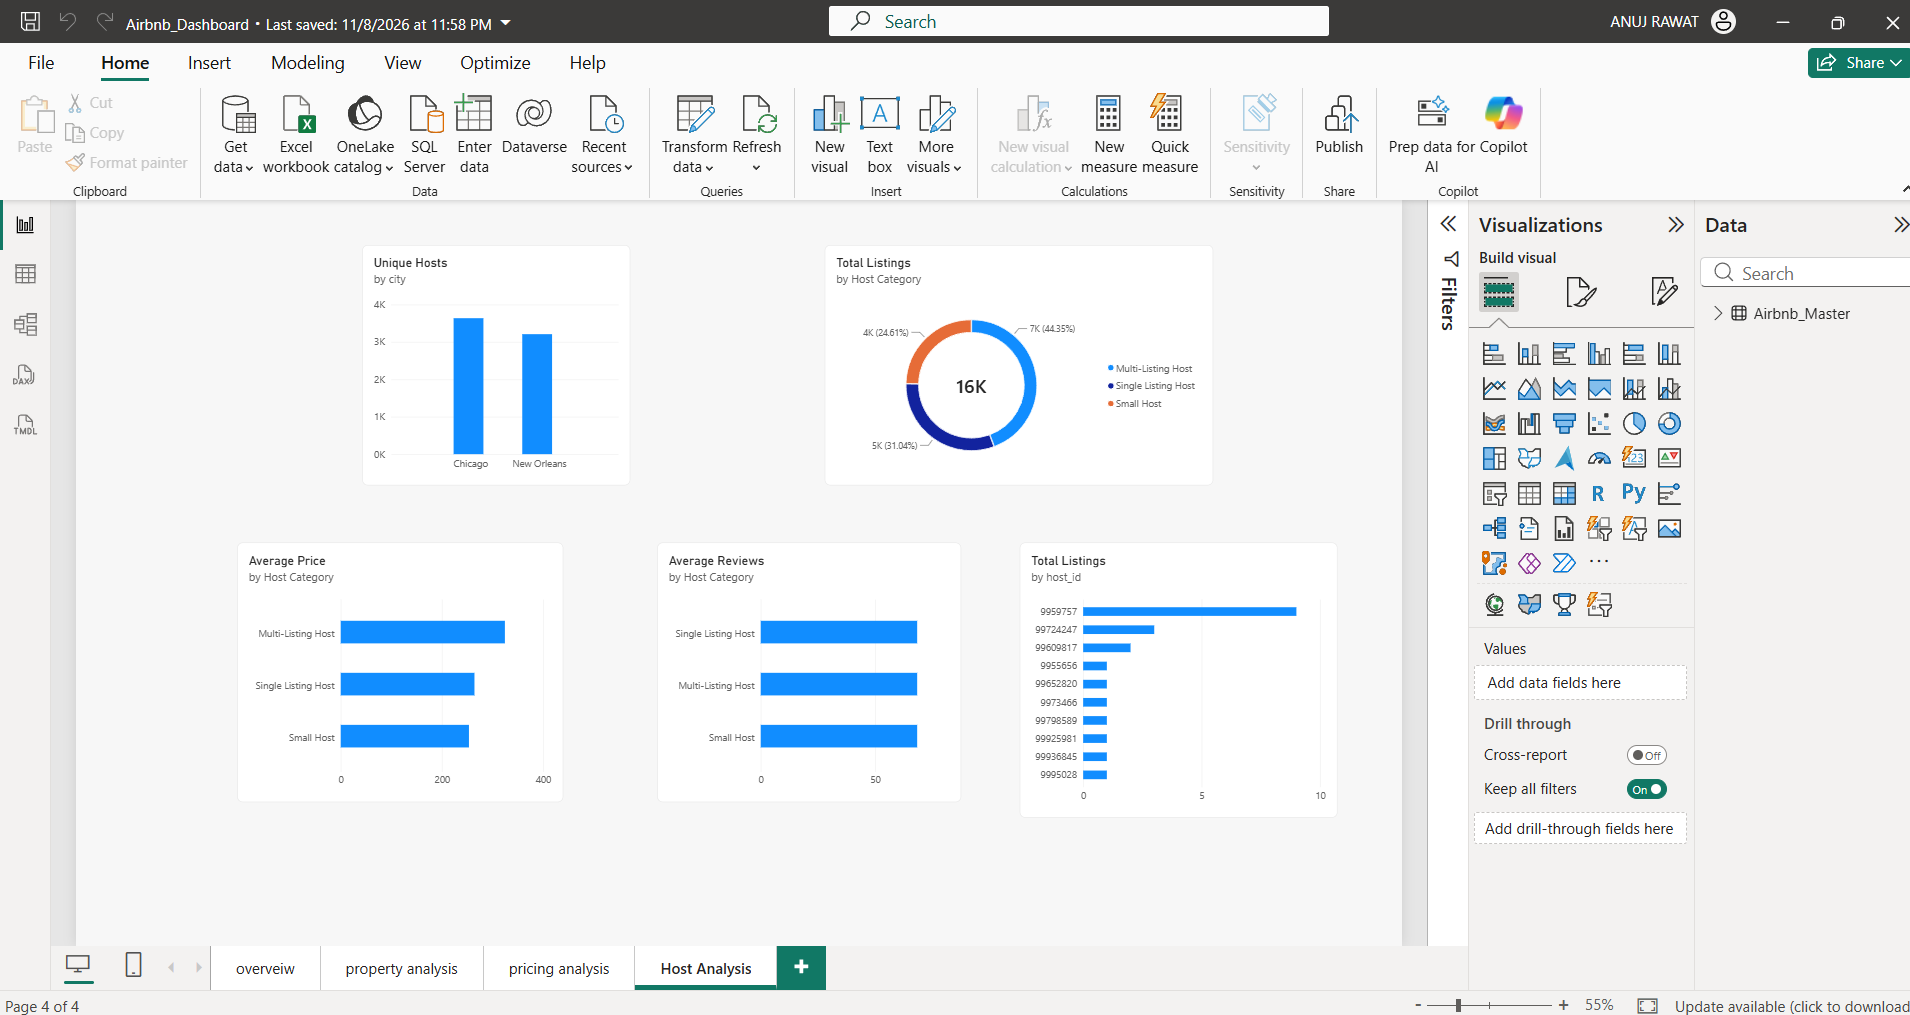

This screenshot's page, from the dashboard's own definition file:
{"tool":"powerbi","page":{"name":"Host Analysis","canvas":[1920,1080],"ordinal":3},"visuals":[{"type":"columnChart","fields":{"Category":["Airbnb_Master.city"],"Y":["Airbnb_Master.Unique Hosts"]},"box":[414,66,388,348],"z":0},{"type":"donutChart","fields":{"Category":["Airbnb_Master.Host Category"],"Y":["Airbnb_Master.Total Listings"]},"box":[1084,66,562,348],"z":1},{"type":"clusteredBarChart","fields":{"Category":["Airbnb_Master.Host Category"],"Y":["Airbnb_Master.Avg Price Measure"]},"box":[234,496,472,376],"z":2},{"type":"clusteredBarChart","fields":{"Category":["Airbnb_Master.Host Category"],"Y":["Avg(Airbnb_Master.Average Reviews)"]},"box":[842,496,440,376],"z":3},{"type":"clusteredBarChart","fields":{"Category":["Airbnb_Master.host_id"],"Y":["Airbnb_Master.Total Listings"]},"box":[1366,496,460,398],"z":4}]}

Visuals, with their boxes on the page's 1920x1080 design canvas (x1, y1, x2, y2). These are canvas units, not pixel positions in the 1910x1015 screenshot, which may show the page scaled, cropped or inside an application window:
columnChart - Airbnb_Master.city x Airbnb_Master.Unique Hosts: 414, 66, 802, 414
donutChart - Airbnb_Master.Host Category x Airbnb_Master.Total Listings: 1084, 66, 1646, 414
clusteredBarChart - Airbnb_Master.Host Category x Airbnb_Master.Avg Price Measure: 234, 496, 706, 872
clusteredBarChart - Airbnb_Master.Host Category x Avg(Airbnb_Master.Average Reviews): 842, 496, 1282, 872
clusteredBarChart - Airbnb_Master.host_id x Airbnb_Master.Total Listings: 1366, 496, 1826, 894
